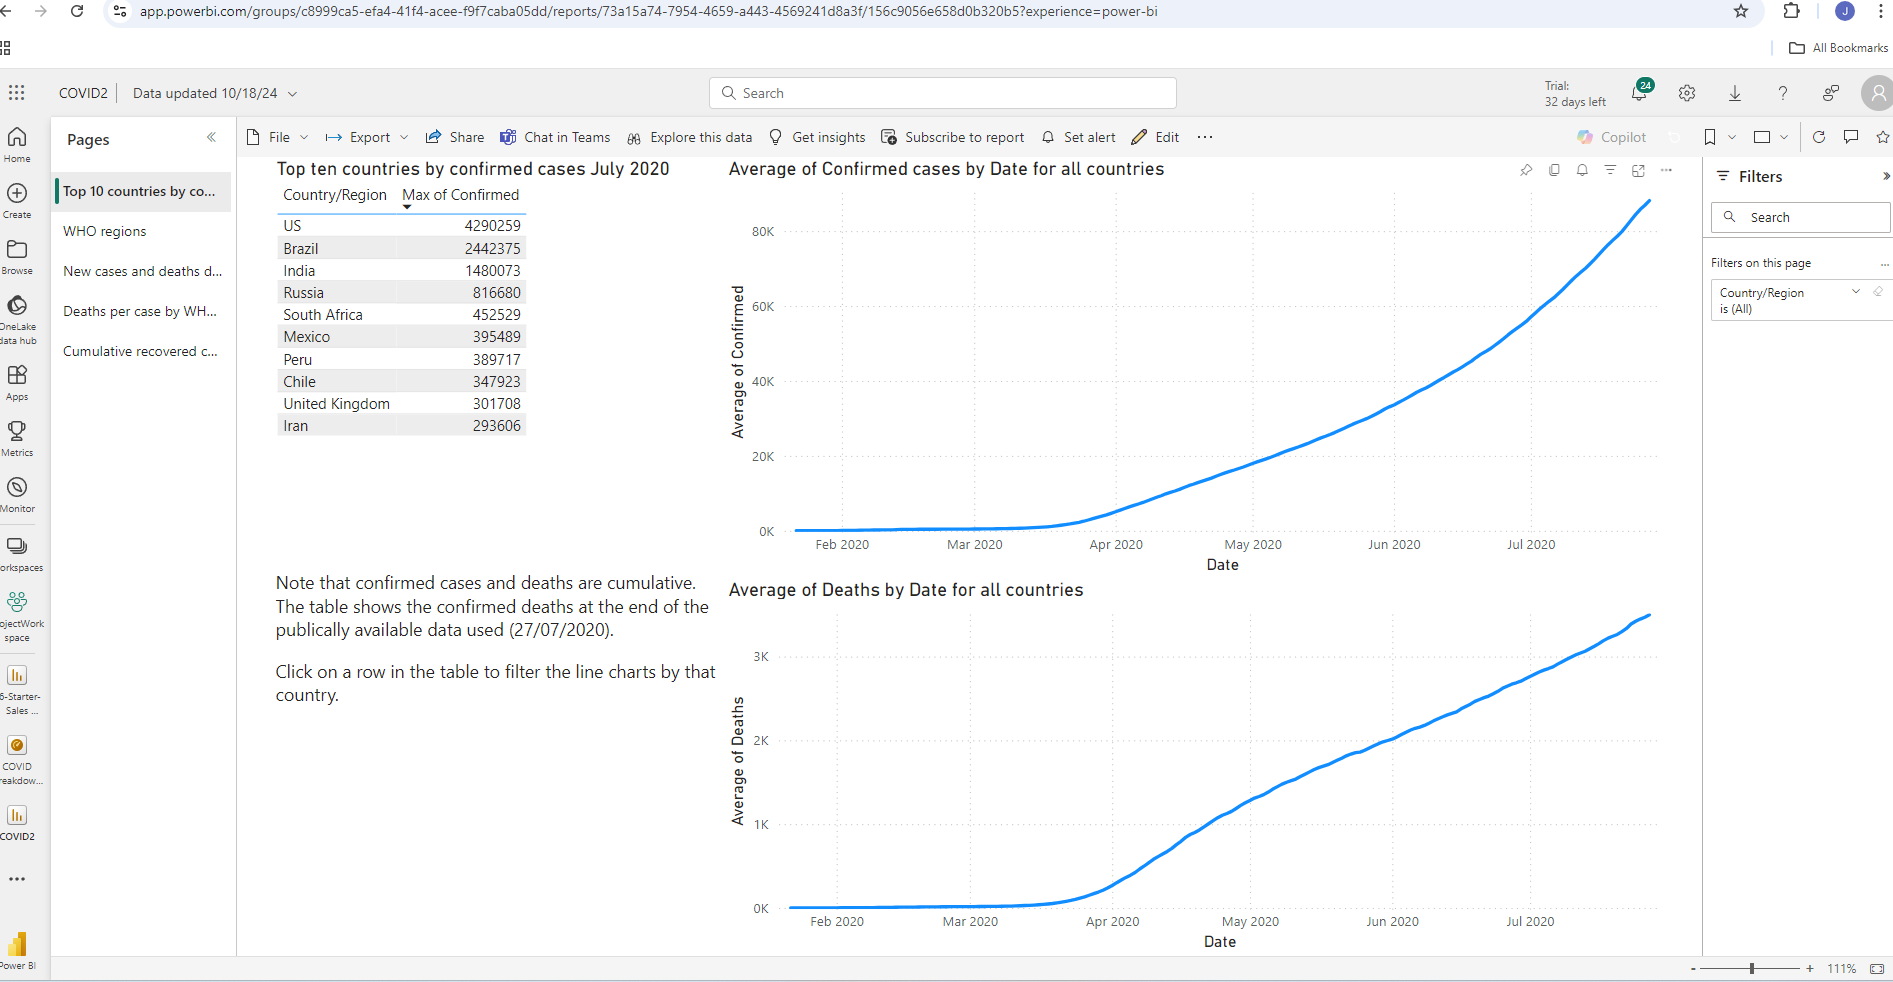

Layout of this report page (visuals, bound fields, positions):
{"tool":"powerbi","page":{"name":"Top 10 countries by confirmed cases","canvas":[1280,720],"ordinal":0},"visuals":[{"type":"tableEx","title":"Top ten countries by confirmed cases July 2020","fields":{"Values":["full_grouped.Country/Region","Max(full_grouped.Confirmed)"]},"box":[10.5,0,417,277.6],"z":0},{"type":"lineChart","title":"Average of Confirmed cases by Date for all countries","fields":{"Category":["full_grouped.Date"],"Y":["Avg(full_grouped.Confirmed)"]},"box":[418.1,0,861.9,379.8],"z":1000},{"type":"lineChart","title":"Average of Deaths by Date for all countries","fields":{"Category":["full_grouped.Date"],"Y":["Avg(full_grouped.Deaths)"]},"box":[418.1,379.8,861.9,340.3],"z":2000},{"type":"textbox","box":[10,368,408,352],"z":3000}]}

Visuals, with their boxes on the page's 1280x720 design canvas (x1, y1, x2, y2). These are canvas units, not pixel positions in the 1893x982 screenshot, which may show the page scaled, cropped or inside an application window:
"Top ten countries by confirmed cases July 2020" tableEx: <box>10,0,428,278</box>
"Average of Confirmed cases by Date for all countries" lineChart: <box>418,0,1280,380</box>
"Average of Deaths by Date for all countries" lineChart: <box>418,380,1280,720</box>
textbox: <box>10,368,418,720</box>
